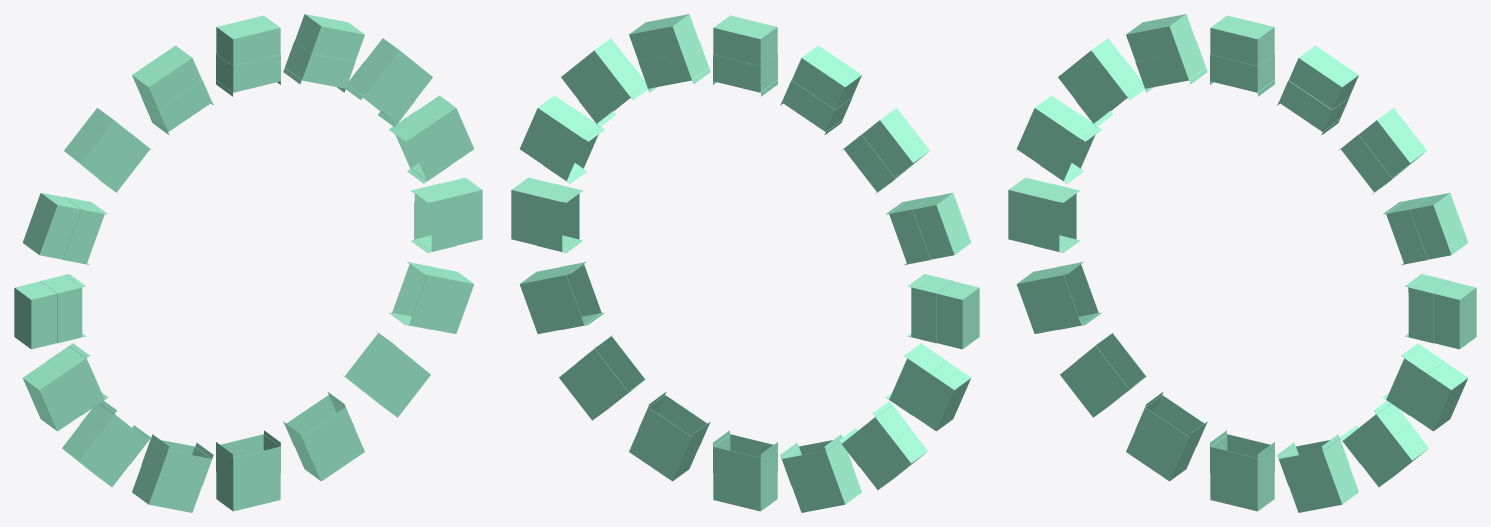
Rendered from Serv-Muon-Barrel-Calo-Ele-Boxes-cut1.glb.
3 views of the same model, side by side, from view 1: azimuth 30°, elevation 25°; view 2: azimuth 150°, elevation 25°; view 3: azimuth 330°, elevation 25° (orthographic).
Visible parts, largest first — view 1: Electrical Boxes Barrel cut1; view 2: Electrical Boxes Barrel cut1; view 3: Electrical Boxes Barrel cut1.
Part boxes in pixels (box(x1,y1,x2,y2)): Electrical Boxes Barrel cut1: box(14, 14, 482, 512); Electrical Boxes Barrel cut1: box(511, 14, 979, 512); Electrical Boxes Barrel cut1: box(1008, 14, 1476, 512).
Size of the model in its own units: 7.57 by 7.57 by 0.5634.
